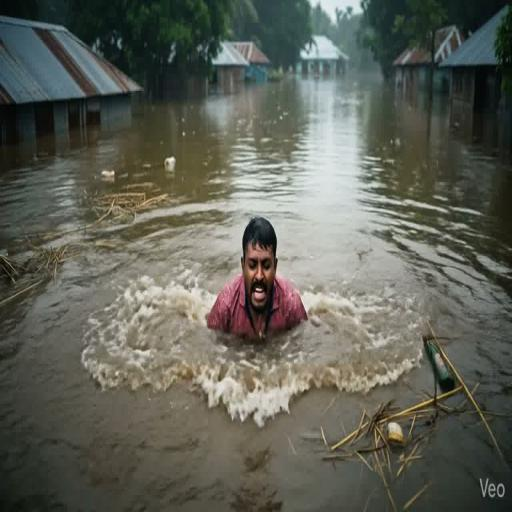human: (194, 197, 312, 356)
